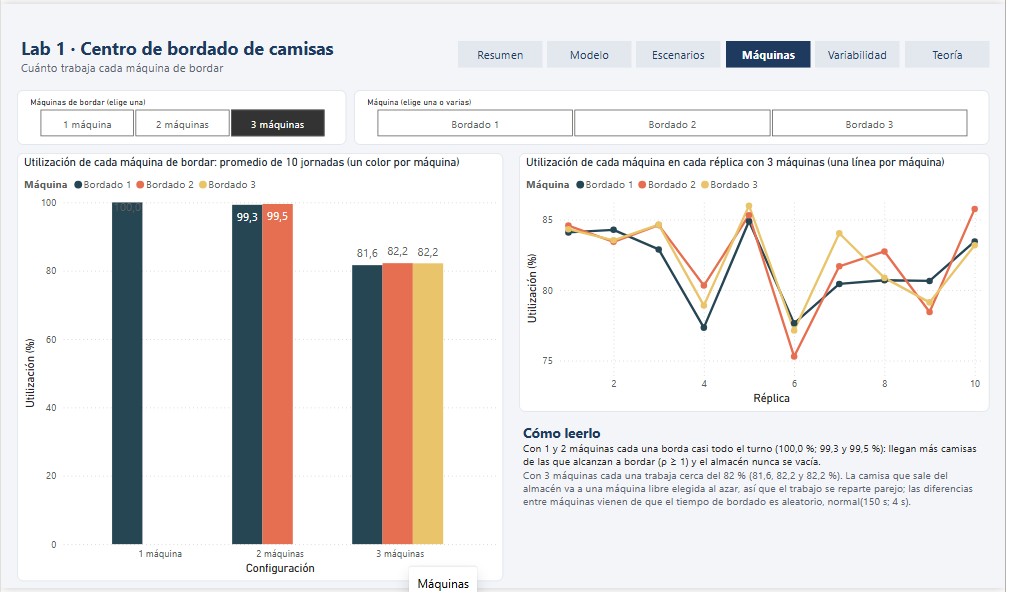

This screenshot's page, from the dashboard's own definition file:
{"tool":"powerbi","page":{"name":"Máquinas","canvas":[1280,720],"ordinal":3},"visuals":[{"type":"textbox","box":[20,10,520,62],"z":1000},{"type":"actionButton","box":[582,22,108,34],"z":2000},{"type":"actionButton","box":[696,22,108,34],"z":3000},{"type":"actionButton","box":[810,22,108,34],"z":4000},{"type":"actionButton","box":[924,22,108,34],"z":5000},{"type":"actionButton","box":[1038,22,108,34],"z":6000},{"type":"actionButton","box":[1152,22,108,34],"z":7000},{"type":"slicer","fields":{"Values":["UtilMaquina.Configuracion"]},"box":[20,84,420,70],"z":8000},{"type":"slicer","fields":{"Values":["UtilMaquina.Maquina"]},"box":[450,84,810,70],"z":9000},{"type":"clusteredColumnChart","title":"Utilización de cada máquina de bordar: promedio de 10 jornadas (un color por máquina)","fields":{"Category":["UtilMaquina.Configuracion"],"Series":["UtilMaquina.Maquina"],"Y":["UtilMaquina.Util maquina"]},"box":[20,164,620,546],"z":10000},{"type":"lineChart","fields":{"Category":["UtilMaquina.Replica"],"Y":["UtilMaquina.Util maquina linea"],"Series":["UtilMaquina.Maquina"]},"box":[660,164,600,330],"z":11000},{"type":"textbox","box":[660,504,600,206],"z":12000}]}

Visuals, with their boxes on the page's 1280x720 design canvas (x1, y1, x2, y2). These are canvas units, not pixel positions in the 1010x592 screenshot, which may show the page scaled, cropped or inside an application window:
textbox: rect(20, 10, 540, 72)
actionButton: rect(582, 22, 690, 56)
actionButton: rect(696, 22, 804, 56)
actionButton: rect(810, 22, 918, 56)
actionButton: rect(924, 22, 1032, 56)
actionButton: rect(1038, 22, 1146, 56)
actionButton: rect(1152, 22, 1260, 56)
slicer - UtilMaquina.Configuracion: rect(20, 84, 440, 154)
slicer - UtilMaquina.Maquina: rect(450, 84, 1260, 154)
"Utilización de cada máquina de bordar: promedio de 10 jornadas (un color por máquina)" clusteredColumnChart: rect(20, 164, 640, 710)
lineChart - UtilMaquina.Replica x UtilMaquina.Util maquina linea: rect(660, 164, 1260, 494)
textbox: rect(660, 504, 1260, 710)
